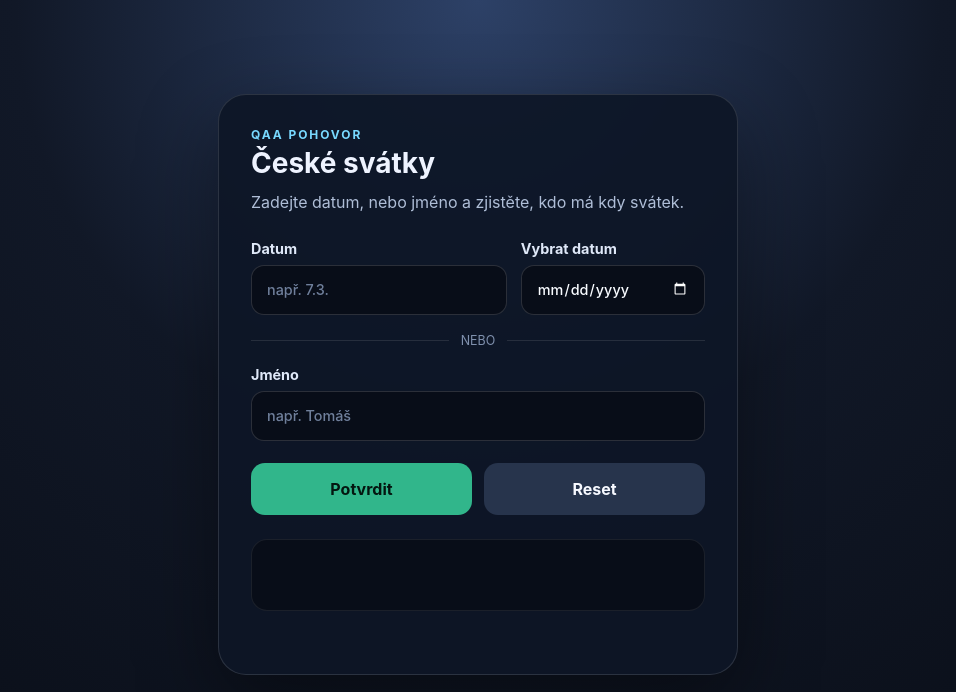
Scenario: NamedayForm component › Name validation › shows the name-not-found message for an unknown name
This screenshot has width=956, height=692.
Type "Xyzabc" into the field with test id "name-input" at (478,416), box [251,391,705,441]
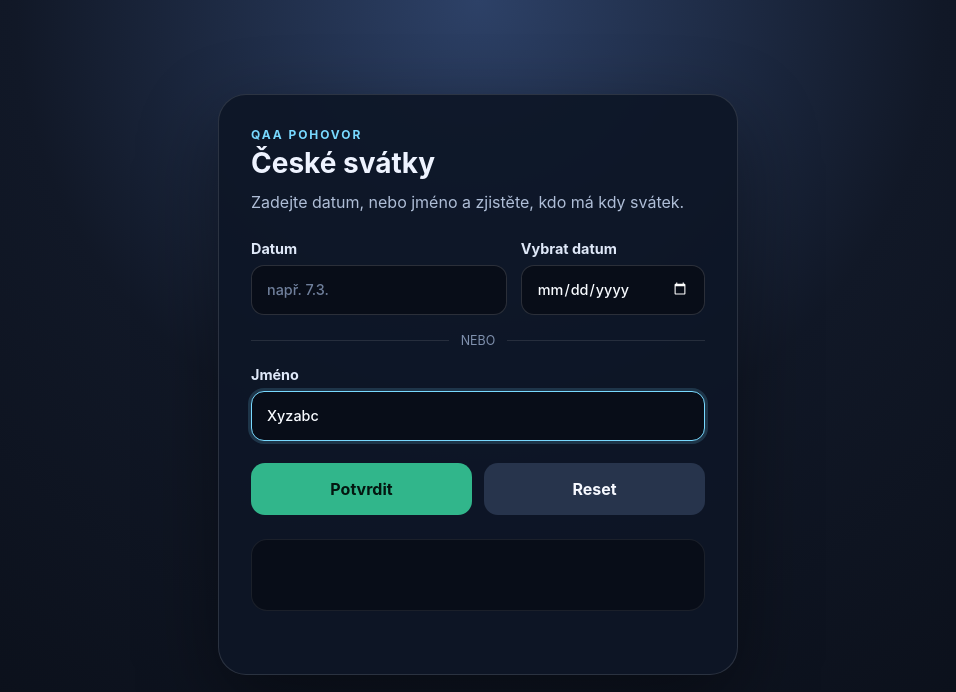
Click the button with test id "confirm" at (362,489), box [251,463,472,515]
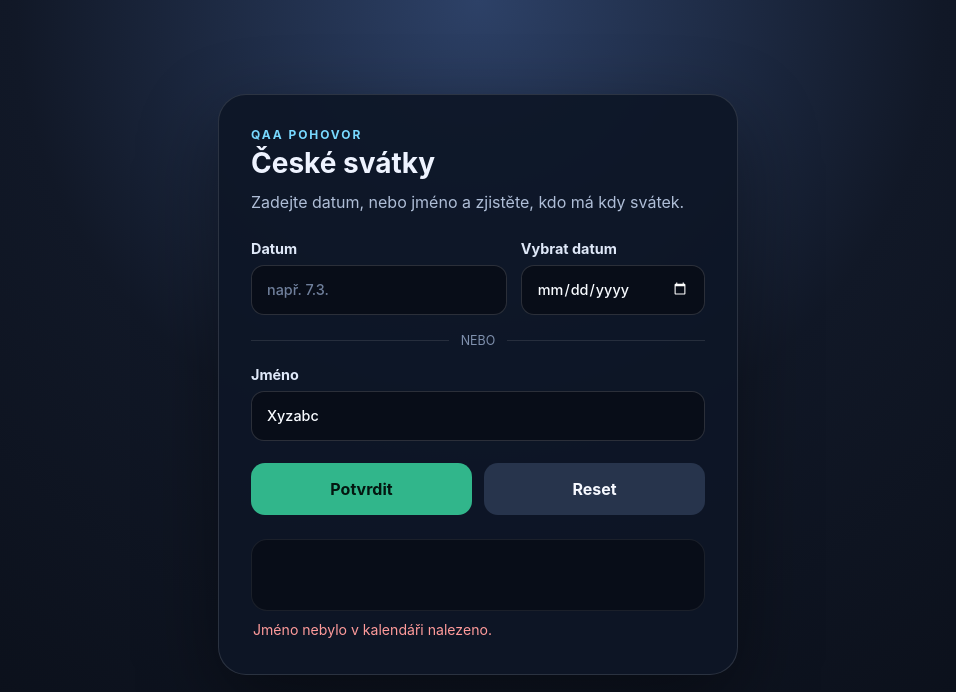
Expected: the text "Jméno nebylo v kalendáři nalezeno." is shown, [253,620,492,638]
